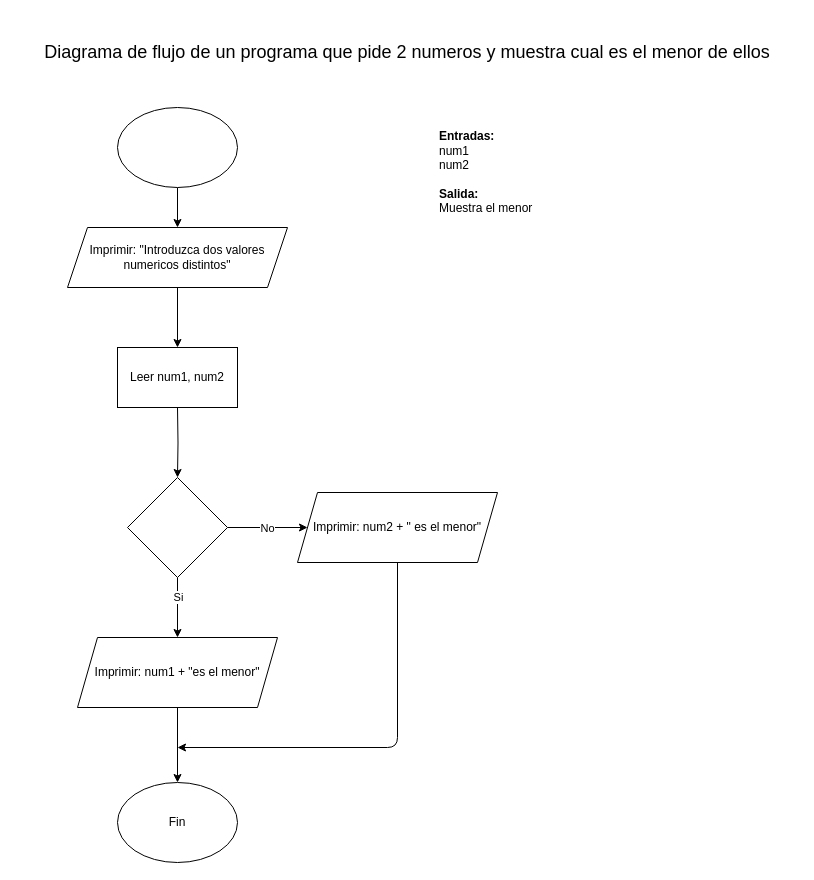
Some shapes in this 814 by 880 pixel diagram are drawn without their labels. Here are the shapes that lost their labels. From the top down, the centre of each, then its label:
the point at 177,147: Inicio
the point at 177,527: num1 < num2
